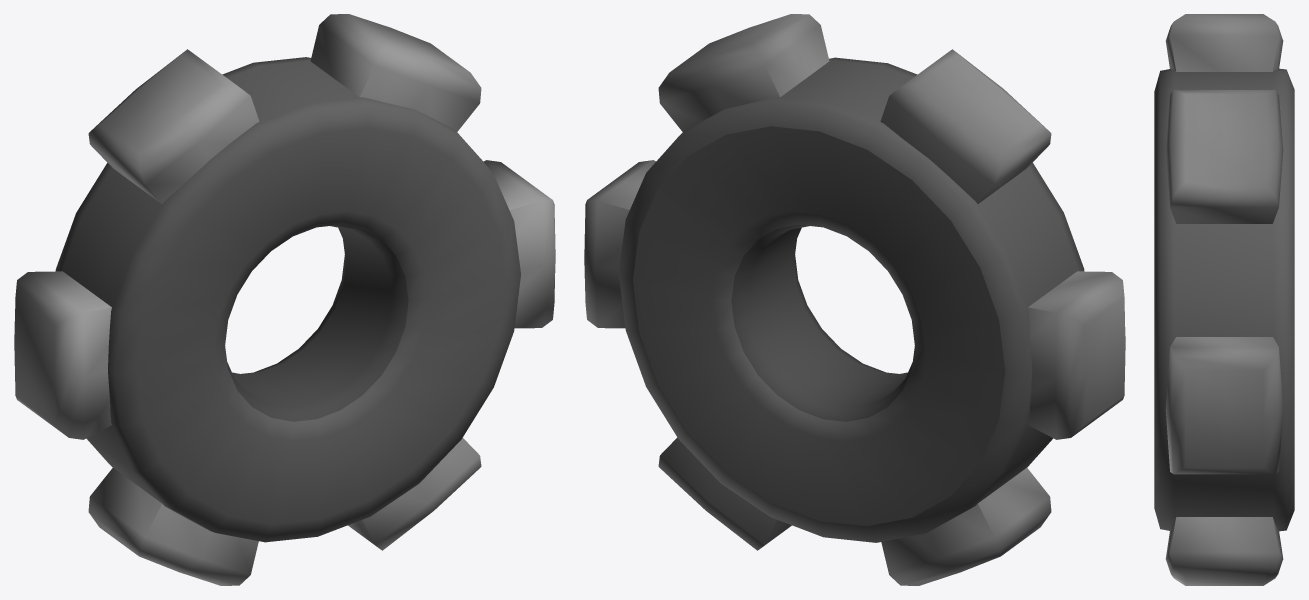
The model's file is Gear_V1_0.fbx.
The picture shows the model from 3 angles, left to right: view 1: azimuth 30°, elevation 25°; view 2: azimuth 150°, elevation 25°; view 3: azimuth 270°, elevation 25°; orthographic projection. The views are drawn at different scales.
Visible parts, largest first — view 1: Gear_V1_0; view 2: Gear_V1_0; view 3: Gear_V1_0.
Part boxes in pixels (x1,y1,x2,y2): Gear_V1_0: (14, 14, 555, 585); Gear_V1_0: (584, 14, 1125, 585); Gear_V1_0: (1154, 14, 1294, 585).
Bounding box in the file's own units: 0.535 × 0.5115 × 0.1326.
